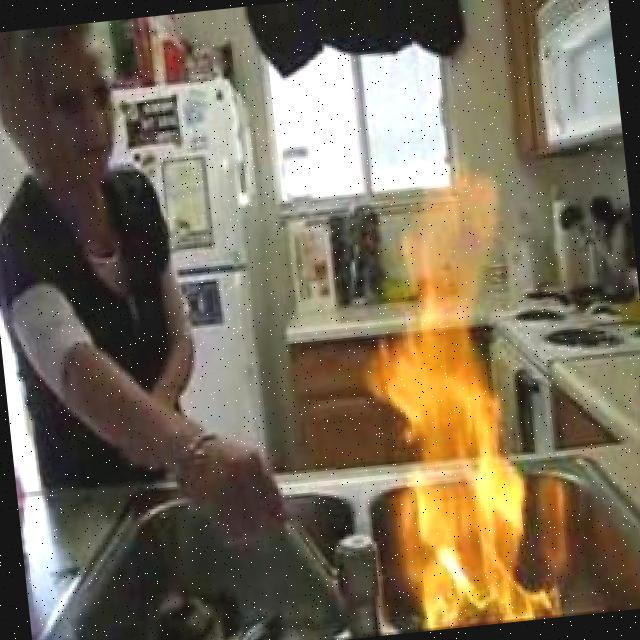Fire: (350, 168, 545, 634)
